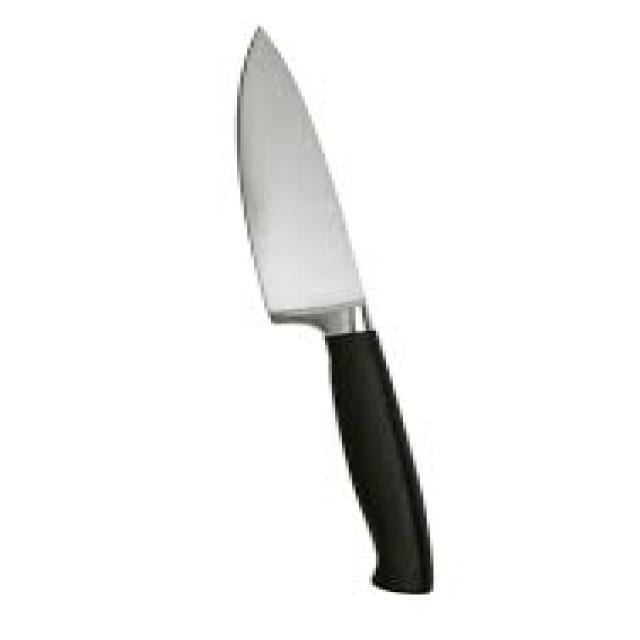Knife: (231, 24, 434, 594)
